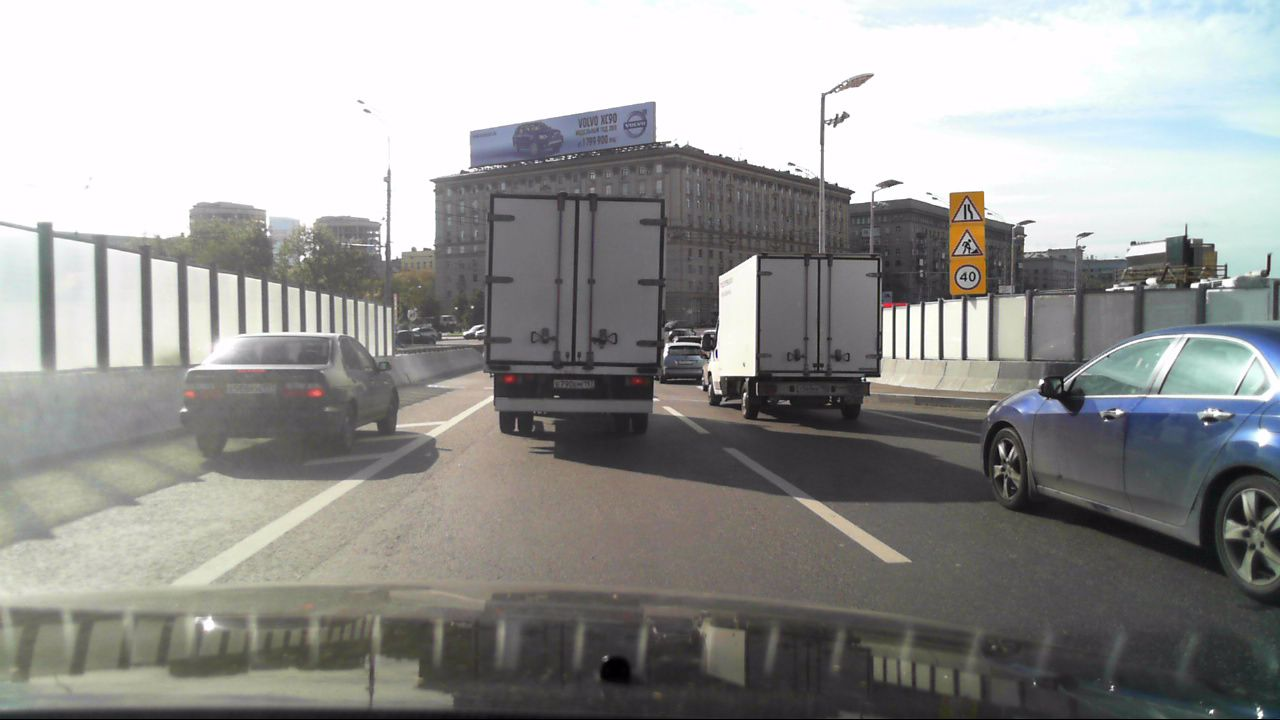speed_warning_40: (949, 257, 985, 294)
